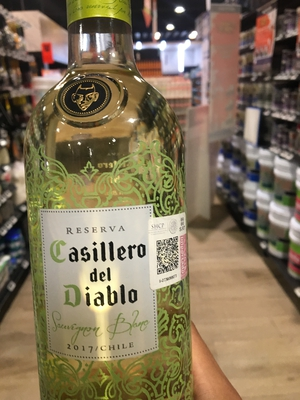casillero del diablo sauvignon blanc: (22, 18, 189, 400)
